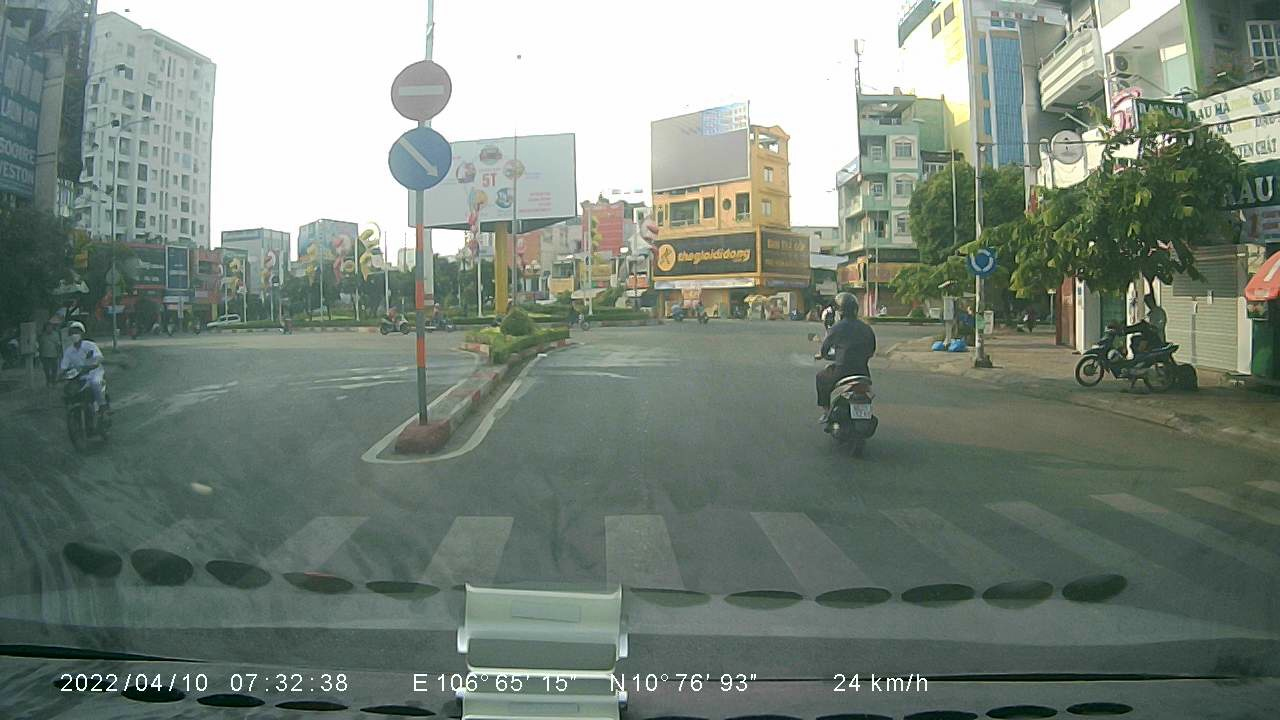Bien khac: (967, 242, 994, 277)
Cam di nguoc chieu: (383, 56, 461, 121)
Huong di phai re phai: (382, 123, 458, 191)
